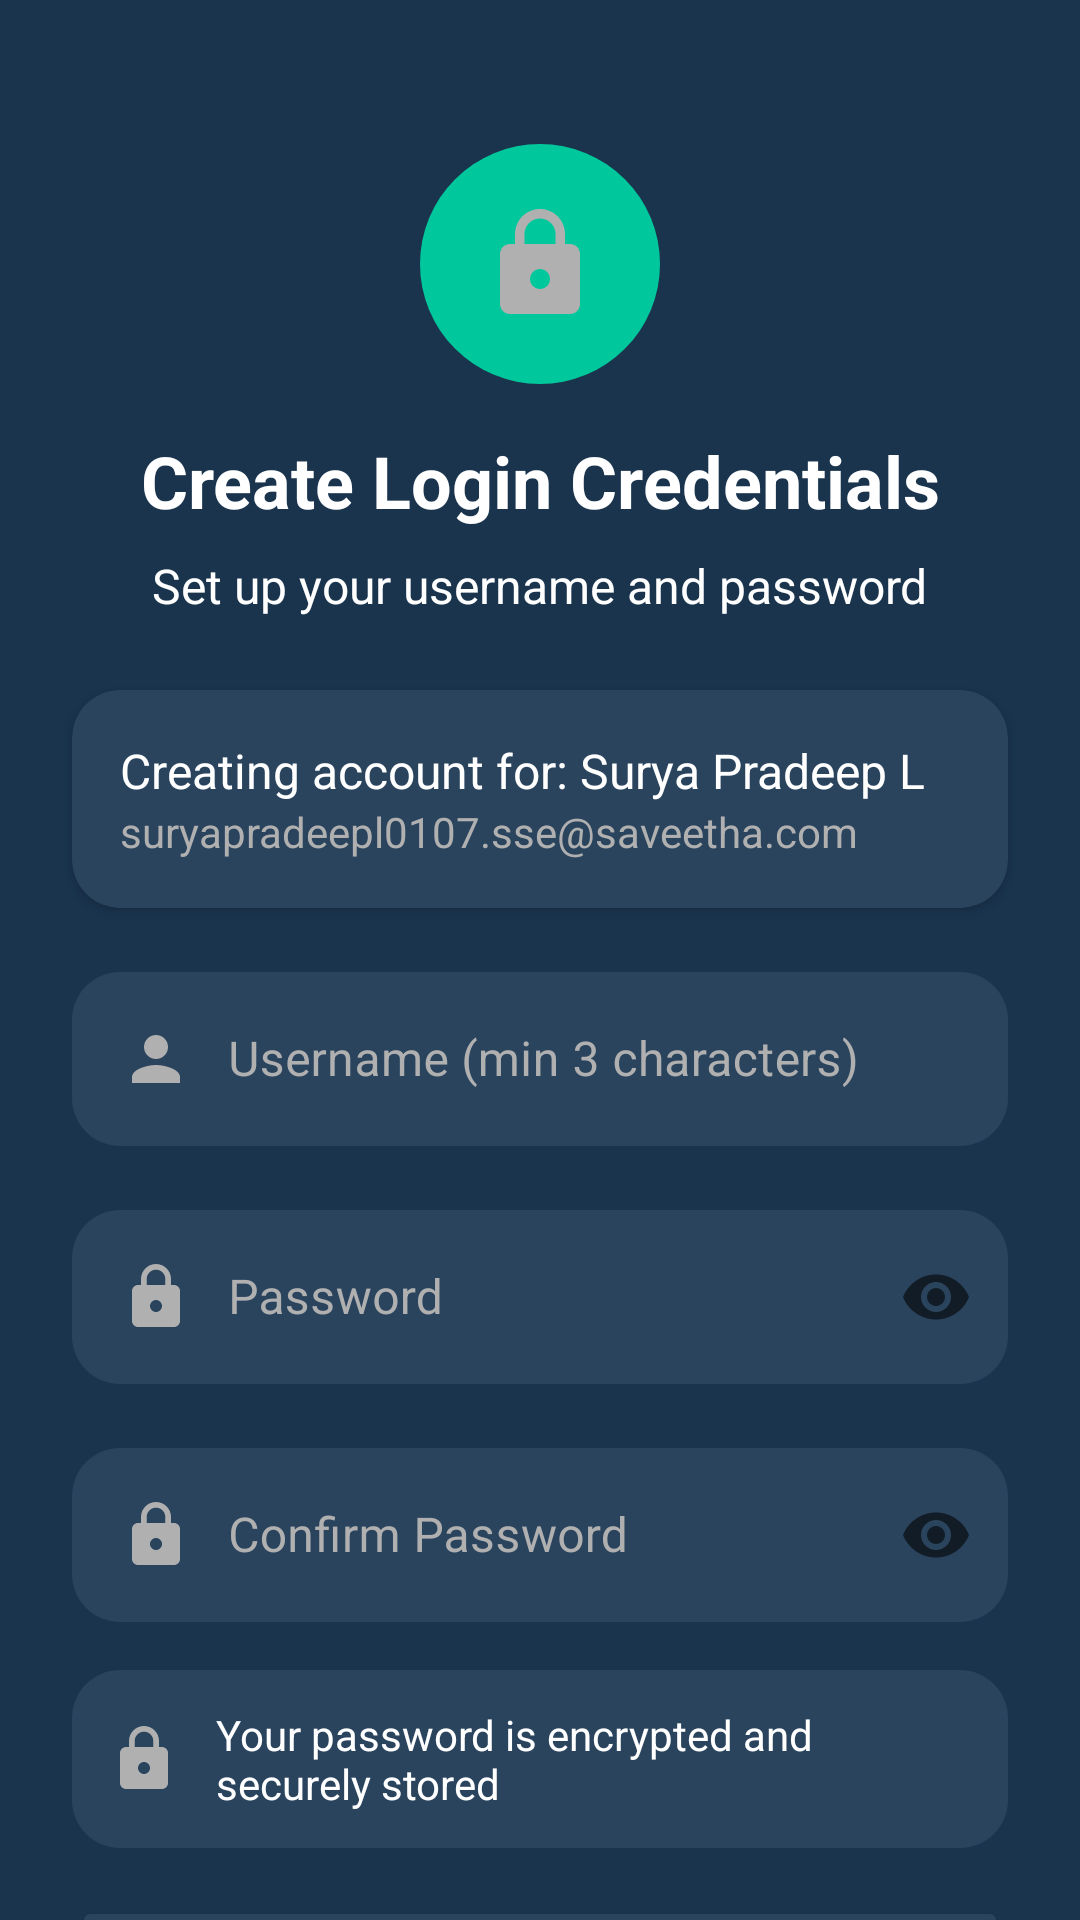

Icons on this 1080px x 1920px Android screen, each with the point to tap as [x,y]:
lock: [540,264]
